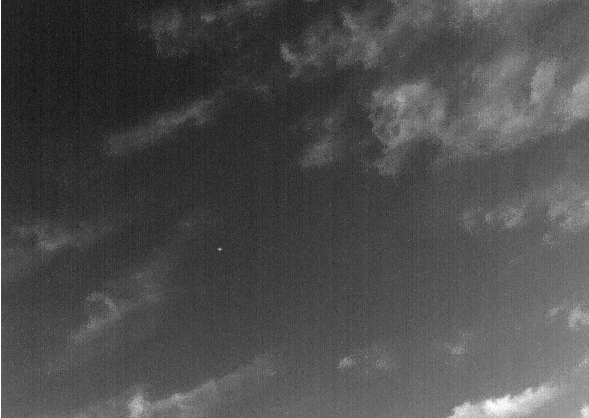dim target: (216, 245, 224, 253)
